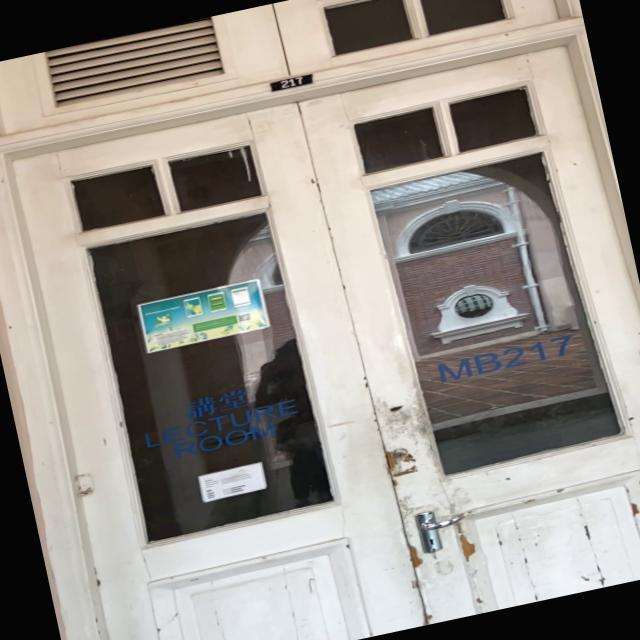room217: (265, 69, 316, 94)
room217Window: (425, 327, 582, 387)
